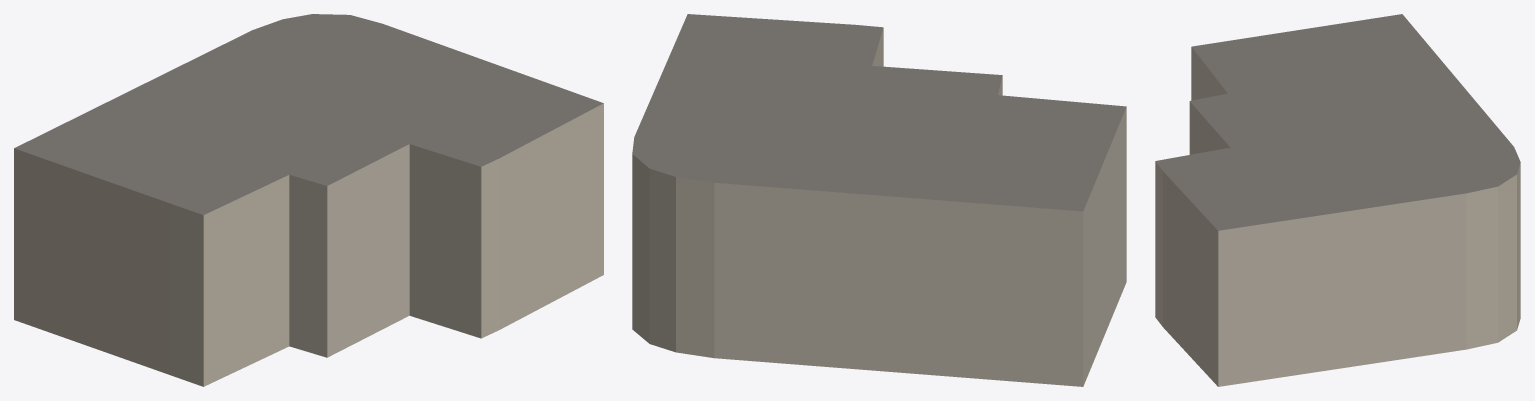
3 views of the same model, side by side, from view 1: azimuth 30°, elevation 25°; view 2: azimuth 150°, elevation 25°; view 3: azimuth 270°, elevation 25° (orthographic). The views are drawn at different scales.
Parts seen in each view (by area): view 1: HP-w1196823089; view 2: HP-w1196823089; view 3: HP-w1196823089.
Boxes of the visible parts, x1,y1,x2,y2 form: HP-w1196823089: [14, 14, 603, 386]; HP-w1196823089: [632, 14, 1126, 386]; HP-w1196823089: [1155, 14, 1520, 386].
Bounding box in the file's own units: 35.72 × 12 × 25.45.
